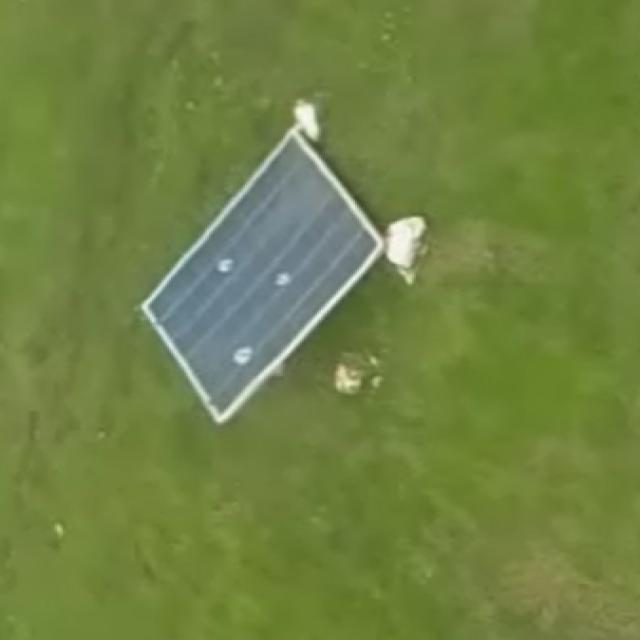Bird-drop: (258, 271, 304, 295), (226, 338, 262, 366), (212, 254, 242, 276)
